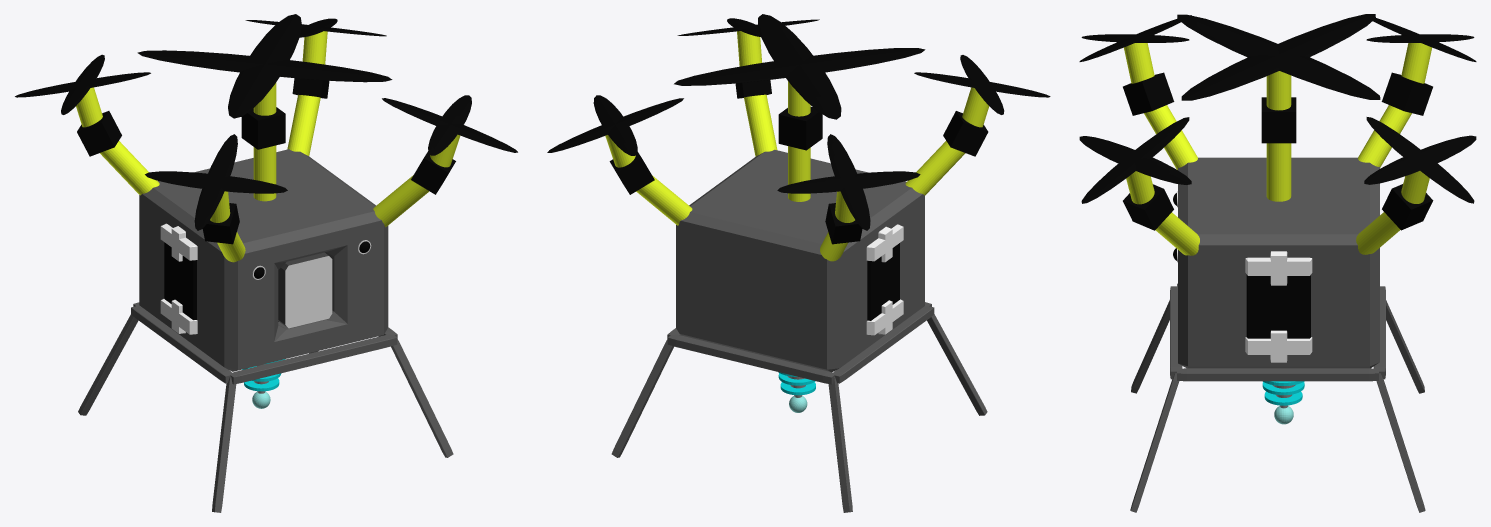
Rendered from DisintegratorBot.fbx.
3 renders of one model, left to right at view 1: azimuth 30°, elevation 25°; view 2: azimuth 150°, elevation 25°; view 3: azimuth 270°, elevation 25°, orthographic. The views are drawn at different scales.
Parts seen in each view (by area): view 1: Cube.004, Cube, Cube.019, Cube.018, Cube.025, Cube.021, Cube.013, Cube.012, Cube.003, Cylinder.009, Cube.017, Cube.028 (+17 smaller); view 2: Cube.004, Cube.018, Cube.019, Cube.001, Cube.021, Cube.010, Cube.009, Cube.003, Cube.017, Cylinder.009, Cube.031, Cylinder.007 (+15 smaller); view 3: Cube.004, Cube.018, Cube.019, Cube.021, Cube.002, Cylinder.009, Cube.015, Cube.007, Cube.016, Cube.006, Cube.008, Cube.011 (+23 smaller).
Boxes of the visible parts, x1,y1,x2,y2 form: Cube.004: (139,149,388,371); Cube: (278,252,332,328); Cube.019: (137,50,392,82); Cube.018: (228,14,301,118); Cube.025: (230,334,397,384); Cube.021: (164,242,196,320); Cube.013: (145,171,287,193); Cube.012: (194,134,237,230); Cube.003: (131,306,231,383); Cylinder.009: (253,82,276,201); Cube.017: (241,107,285,149); Cube.028: (212,376,236,512); Cube.004: (676,149,924,372); Cube.018: (674,48,925,85); Cube.019: (758,14,841,119); Cube.001: (667,334,834,384); Cube.021: (867,243,899,320); Cube.010: (777,171,920,193); Cube.009: (827,134,870,230); Cube.003: (833,306,934,383); Cube.017: (778,106,822,150); Cylinder.009: (788,81,810,201); Cube.031: (828,376,852,512); Cylinder.007: (744,94,777,156); Cube.004: (1178,157,1379,368); Cube.018: (1177,14,1380,99); Cube.019: (1181,14,1375,100); Cube.021: (1246,274,1310,338); Cube.002: (1177,368,1378,381); Cylinder.009: (1266,71,1291,201); Cube.015: (1081,117,1189,203); Cube.007: (1364,135,1476,184); Cube.016: (1079,136,1191,184); Cube.006: (1366,117,1474,203); Cube.008: (1381,72,1432,115); Cube.011: (1123,72,1174,115).
Bounding box in the file's own units: 1376 × 1509 × 1364.
